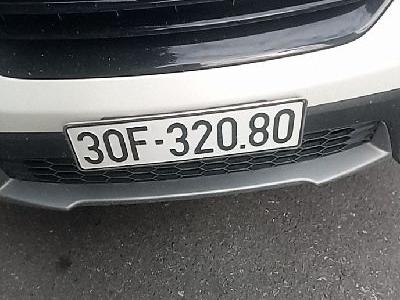number: (67, 97, 308, 172)
